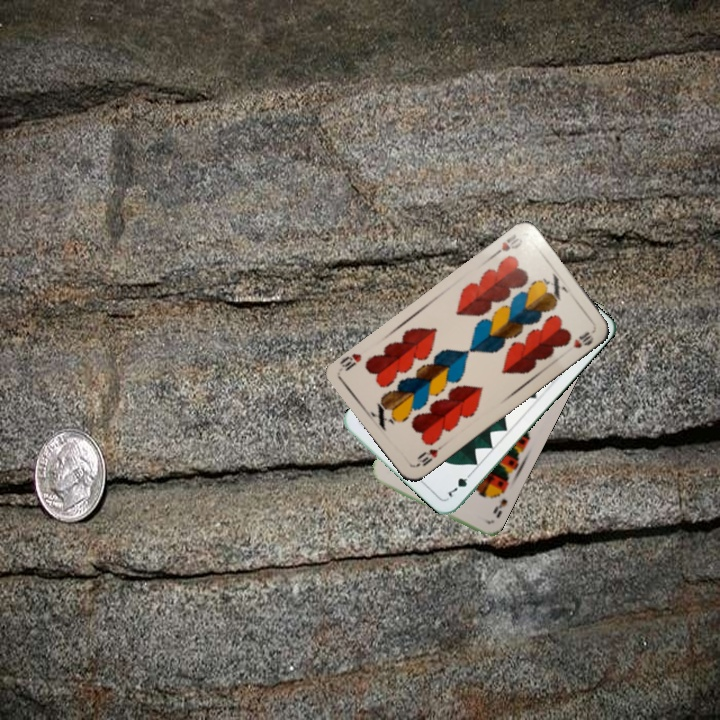G7: (444, 468, 475, 500)
H10: (489, 230, 525, 259), (412, 441, 446, 470)
S9: (489, 484, 510, 521)
